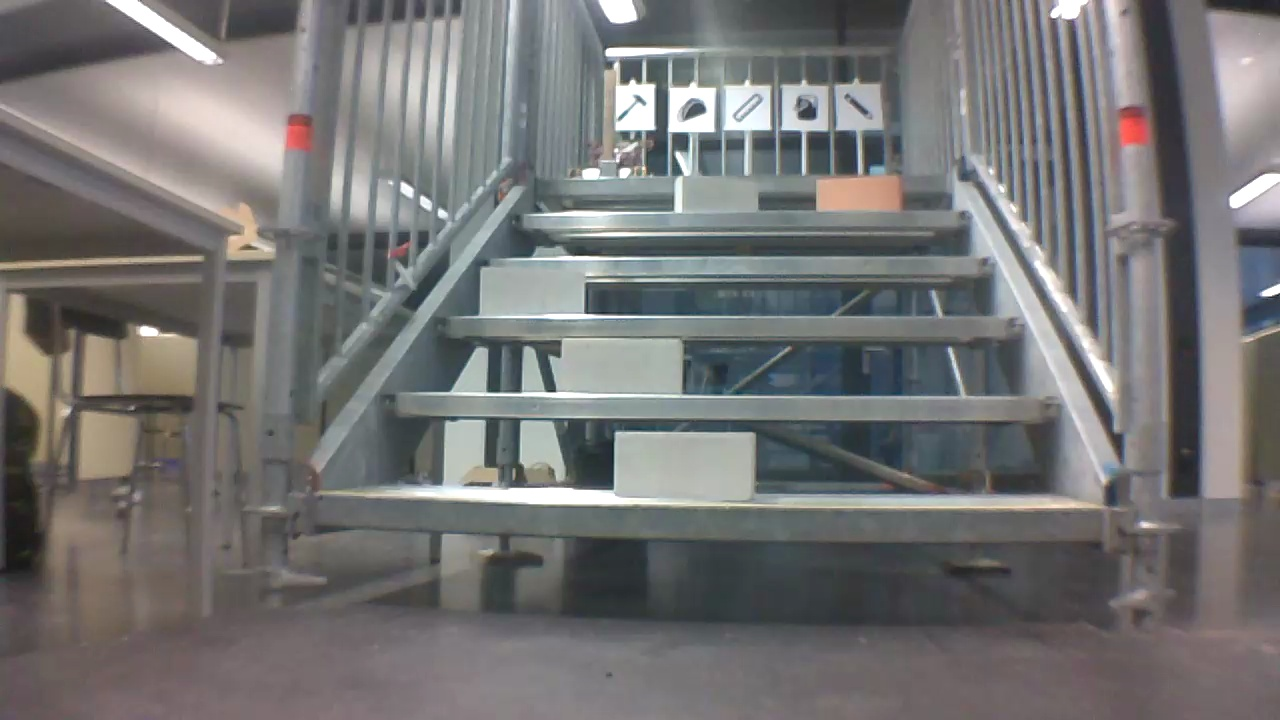brick: (614, 432, 753, 500), (561, 338, 683, 393), (480, 266, 584, 316), (675, 175, 756, 210), (820, 178, 902, 210)
bucket: (791, 90, 821, 124)
edge: (313, 496, 1108, 540), (381, 391, 1061, 420), (442, 315, 1024, 338), (482, 257, 995, 274), (514, 209, 979, 225), (538, 177, 955, 193)
hammer: (616, 88, 649, 125)
pencil: (839, 89, 878, 123)
ruler: (730, 89, 767, 128)
stairs: (255, 4, 1175, 634)
steps: (301, 172, 1121, 548)
taco: (672, 94, 709, 126)
